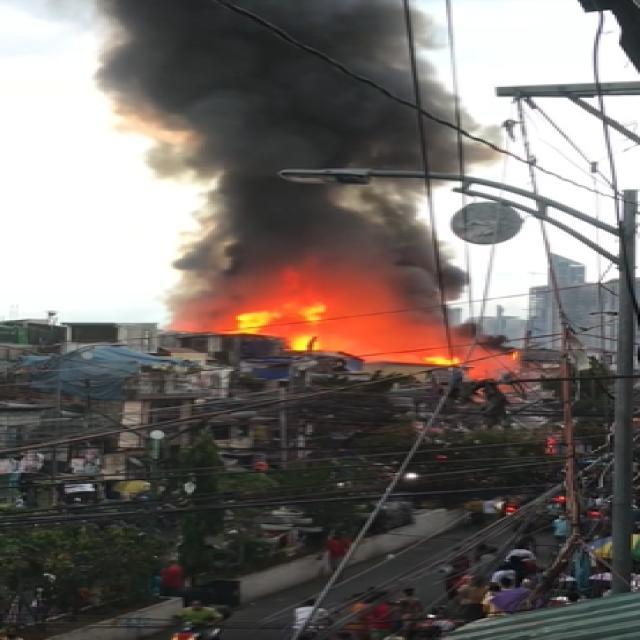Fire: (211, 292, 465, 368)
Smoke: (80, 0, 512, 374)
